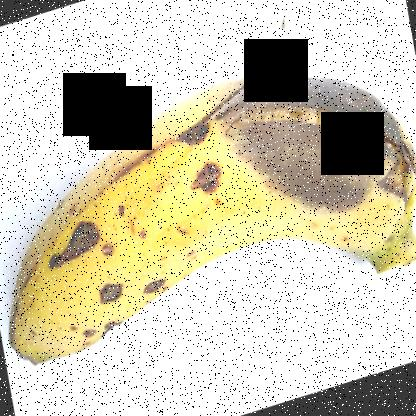rotten: (217, 50, 415, 212), (42, 206, 107, 271), (178, 158, 230, 204), (75, 307, 129, 343), (135, 257, 177, 299), (88, 264, 126, 310), (168, 116, 211, 143)
